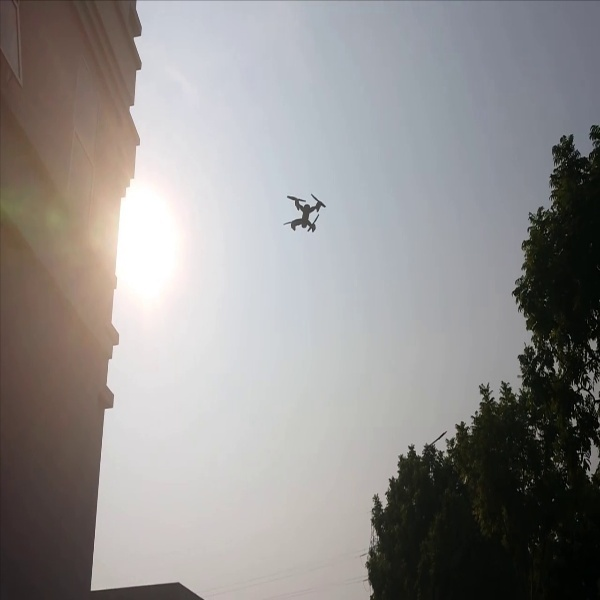drone: (281, 185, 329, 240)
